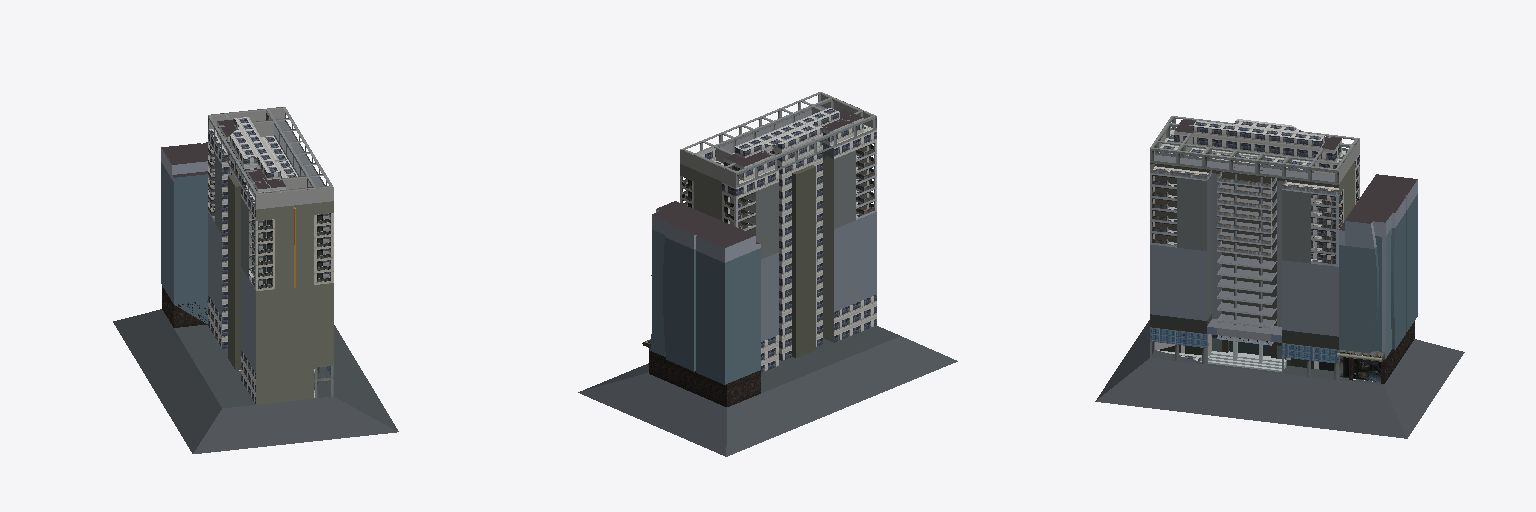
The picture shows the model from 3 angles: view 1: azimuth 30°, elevation 25°; view 2: azimuth 150°, elevation 25°; view 3: azimuth 270°, elevation 25°; orthographic projection.
Visible parts, largest first — view 1: Mesh27 Component_1_1 Component1 skpA9AB1 Model, Mesh43 Component1 skpA9AB1 Model, Mesh19 Component_1_1 Component1 skpA9AB1 Model, Mesh7 Component_2_2 Component_1_1 Component1 skpA9AB1 Model, Mesh16 Component_3_2 Component_1_1 Component1 skpA9AB1 Model; view 2: Mesh27 Component_1_1 Component1 skpA9AB1 Model, Mesh19 Component_1_1 Component1 skpA9AB1 Model, Mesh43 Component1 skpA9AB1 Model, Mesh7 Component_2_2 Component_1_1 Component1 skpA9AB1 Model, Mesh4 Component_3_1 Component_1_1 Component1 skpA9AB1 Model; view 3: Mesh27 Component_1_1 Component1 skpA9AB1 Model, Mesh43 Component1 skpA9AB1 Model, Mesh19 Component_1_1 Component1 skpA9AB1 Model, Mesh32 Component_1_1 Component1 skpA9AB1 Model, Mesh28 Component_1_1 Component1 skpA9AB1 Model, Mesh1 Component_2_1 Component_1_1 Component1 skpA9AB1 Model, Mesh16 Component_3_2 Component_1_1 Component1 skpA9AB1 Model, Mesh15 Component_5_2 Component_1_1 Component1 skpA9AB1 Model, Mesh14 Component_5_1 Component_1_1 Component1 skpA9AB1 Model.
Boxes of the visible parts, x1=… form: Mesh27 Component_1_1 Component1 skpA9AB1 Model: x1=208, y1=107, x2=333, y2=404; Mesh43 Component1 skpA9AB1 Model: x1=113, y1=309, x2=398, y2=453; Mesh19 Component_1_1 Component1 skpA9AB1 Model: x1=161, y1=142, x2=207, y2=327; Mesh7 Component_2_2 Component_1_1 Component1 skpA9AB1 Model: x1=249, y1=210, x2=274, y2=290; Mesh16 Component_3_2 Component_1_1 Component1 skpA9AB1 Model: x1=314, y1=213, x2=333, y2=284; Mesh27 Component_1_1 Component1 skpA9AB1 Model: x1=680, y1=92, x2=876, y2=372; Mesh19 Component_1_1 Component1 skpA9AB1 Model: x1=649, y1=201, x2=760, y2=406; Mesh43 Component1 skpA9AB1 Model: x1=578, y1=325, x2=957, y2=456; Mesh7 Component_2_2 Component_1_1 Component1 skpA9AB1 Model: x1=856, y1=142, x2=876, y2=219; Mesh4 Component_3_1 Component_1_1 Component1 skpA9AB1 Model: x1=722, y1=192, x2=755, y2=235; Mesh27 Component_1_1 Component1 skpA9AB1 Model: x1=1150, y1=116, x2=1359, y2=371; Mesh43 Component1 skpA9AB1 Model: x1=1095, y1=320, x2=1464, y2=438; Mesh19 Component_1_1 Component1 skpA9AB1 Model: x1=1339, y1=174, x2=1417, y2=383; Mesh32 Component_1_1 Component1 skpA9AB1 Model: x1=1217, y1=171, x2=1276, y2=328; Mesh28 Component_1_1 Component1 skpA9AB1 Model: x1=1212, y1=173, x2=1282, y2=326; Mesh1 Component_2_1 Component_1_1 Component1 skpA9AB1 Model: x1=1311, y1=189, x2=1343, y2=266; Mesh16 Component_3_2 Component_1_1 Component1 skpA9AB1 Model: x1=1150, y1=174, x2=1176, y2=247; Mesh15 Component_5_2 Component_1_1 Component1 skpA9AB1 Model: x1=1150, y1=327, x2=1208, y2=364; Mesh14 Component_5_1 Component_1_1 Component1 skpA9AB1 Model: x1=1282, y1=343, x2=1339, y2=379.
Size of the model in its own units: 3399 by 3097 by 4293.
Materials: 48 (10 with a texture image).